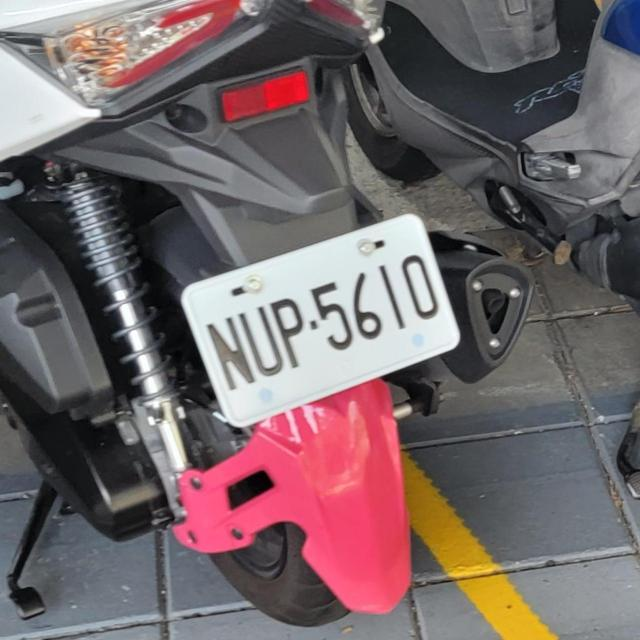W: (171, 202, 476, 436)
